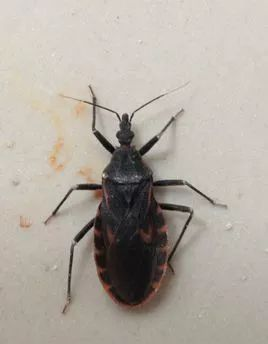chunchong: (52, 98, 203, 306)
